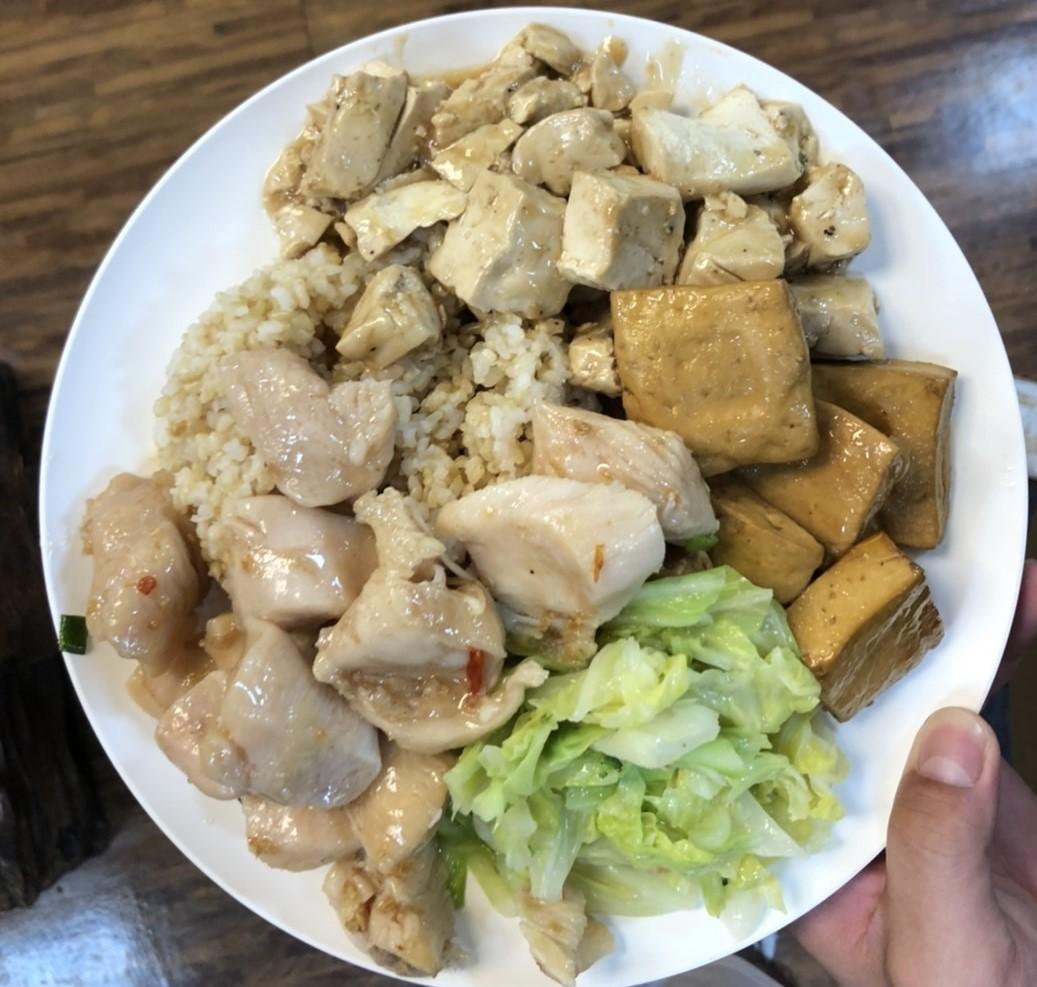big fried chicken leg: (26, 0, 1037, 987)
box: (154, 264, 582, 614)
braised fish fillet: (278, 20, 876, 301), (598, 268, 972, 707), (441, 565, 848, 933)
braised pork: (70, 354, 710, 979)
